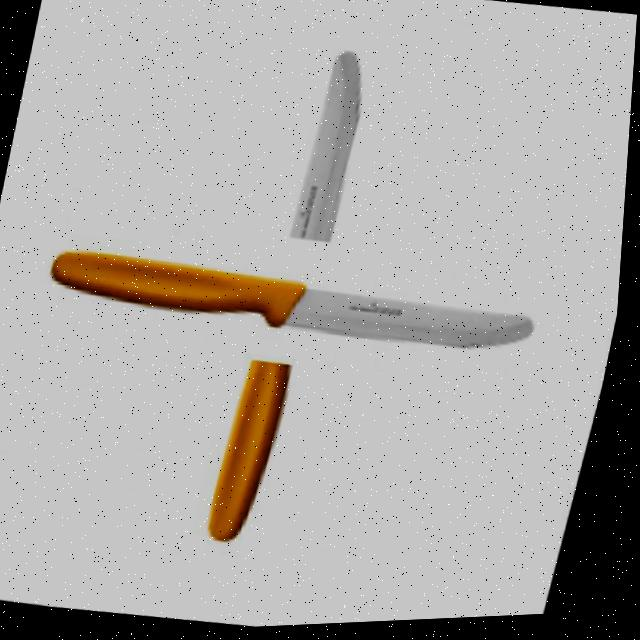knife: (206, 45, 378, 553), (40, 227, 551, 379)
